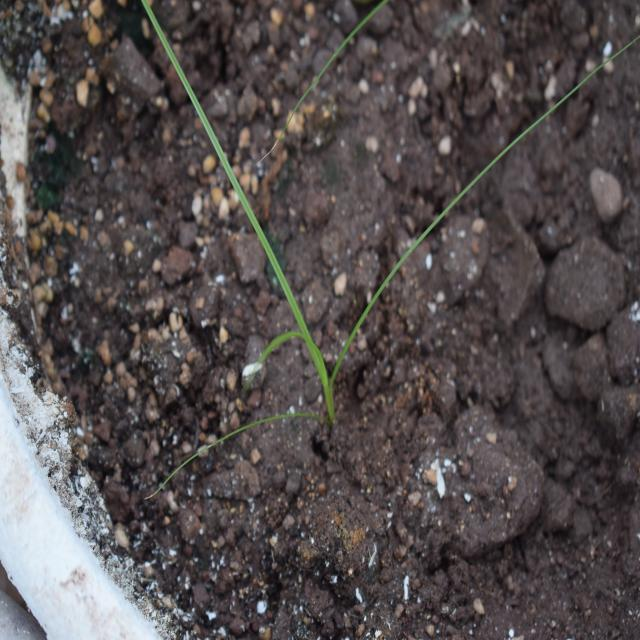sedge: (112, 8, 538, 475)
